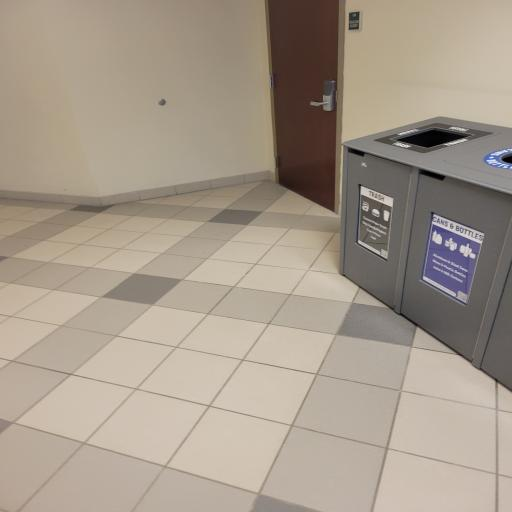can and bottle trash cans: (436, 120, 512, 352)
door: (257, 0, 339, 210)
trash can: (342, 110, 429, 286)
